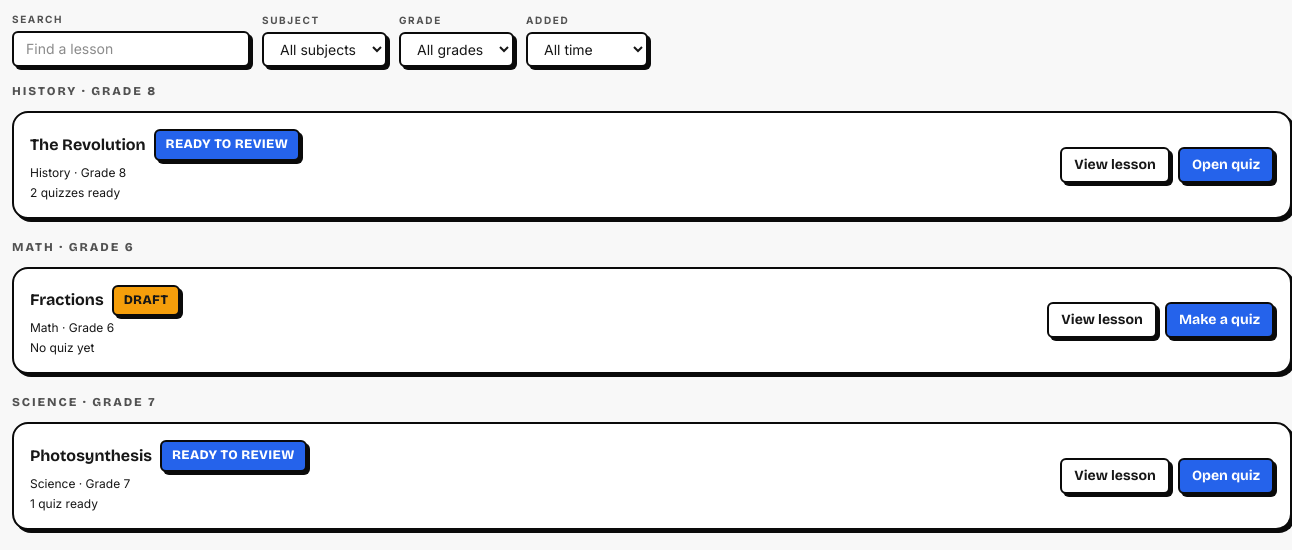
Test: LessonLibrary › the Subject filter narrows the list
Select "Science" in the dropdown labelled "Subject": (324, 50) [262,32,387,67]
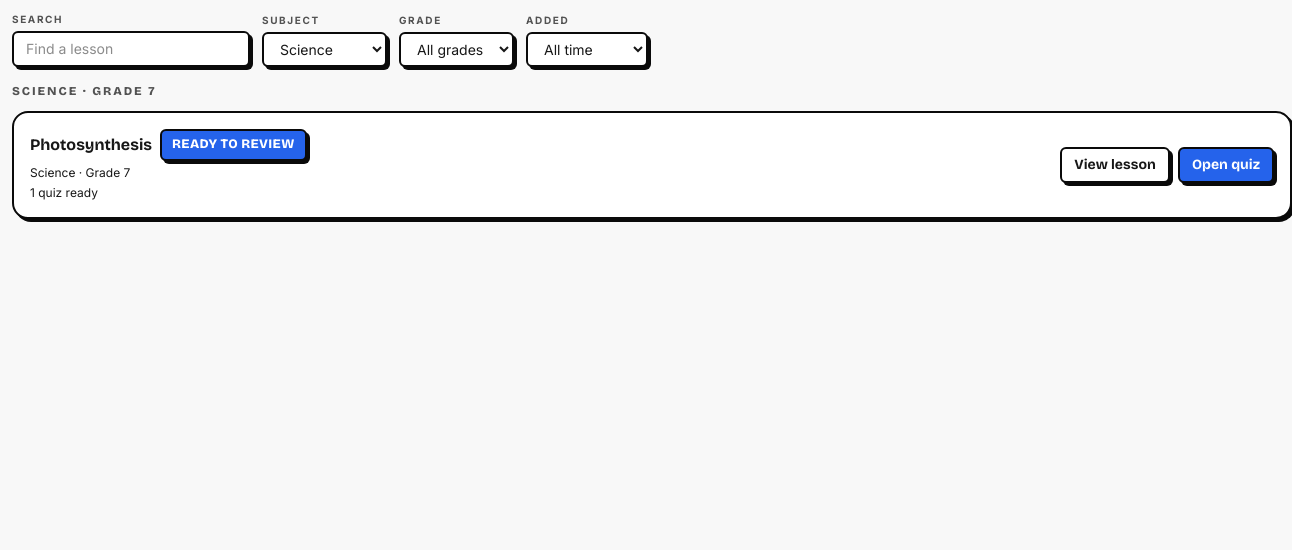
Expected: the heading "Photosynthesis" is shown, [30,133,152,157]
Now the heading "Fractions" is gone
Now the heading "The Revolution" is gone
